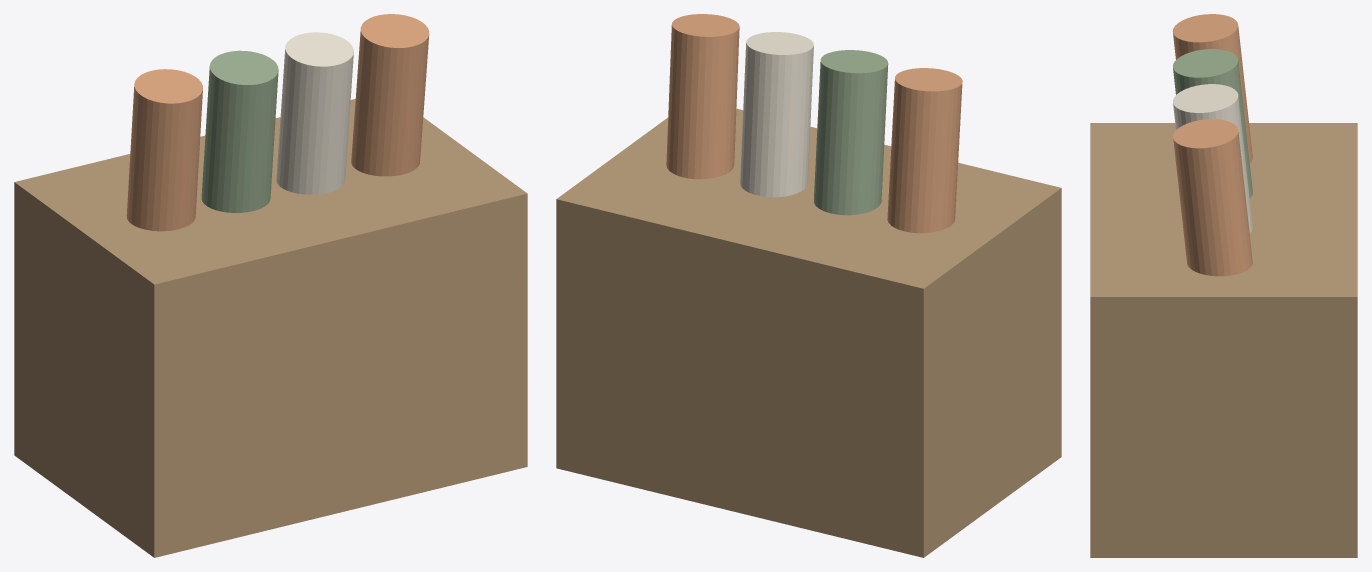
File: cloth_basket.glb
The picture shows the model from 3 angles, left to right: view 1: azimuth 30°, elevation 25°; view 2: azimuth 150°, elevation 25°; view 3: azimuth 270°, elevation 25°; orthographic projection. The views are drawn at different scales.
Parts seen in each view (by area): view 1: Cube, Cylinder.001, Cylinder.002, Cylinder.003, Cylinder; view 2: Cube, Cylinder.003, Cylinder.002, Cylinder.001, Cylinder; view 3: Cube, Cylinder.003, Cylinder.002, Cylinder.001, Cylinder.
Part boxes in pixels (x1,y1,x2,y2): Cube: (14, 99, 527, 557); Cylinder.001: (201, 50, 278, 212); Cylinder.002: (276, 32, 353, 194); Cylinder.003: (351, 14, 429, 176); Cylinder: (126, 69, 202, 231); Cube: (556, 108, 1061, 557); Cylinder.003: (666, 14, 739, 179); Cylinder.002: (740, 32, 813, 197); Cylinder.001: (814, 50, 888, 215); Cylinder: (887, 68, 962, 233); Cube: (1090, 123, 1357, 557); Cylinder.003: (1173, 119, 1252, 276); Cylinder.002: (1173, 84, 1252, 232); Cylinder.001: (1173, 49, 1252, 197); Cylinder: (1172, 14, 1252, 163).
Size of the model in its own units: 1 by 1.06 by 0.65.
